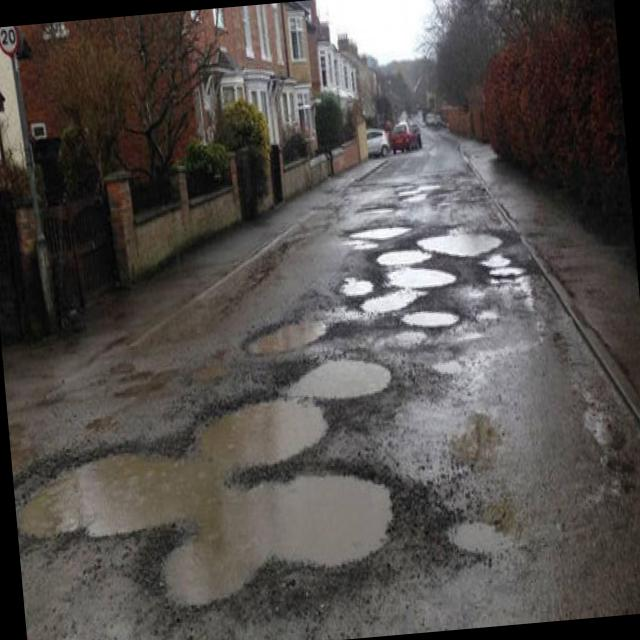Potholes: (5, 354, 408, 598), (358, 242, 458, 324), (236, 312, 340, 366), (416, 217, 512, 260), (394, 300, 466, 342), (341, 210, 412, 250), (331, 266, 379, 312), (490, 251, 533, 289)
